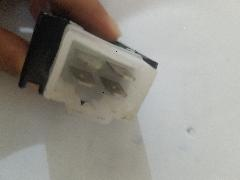plastic: (18, 10, 158, 124), (18, 9, 70, 94)
